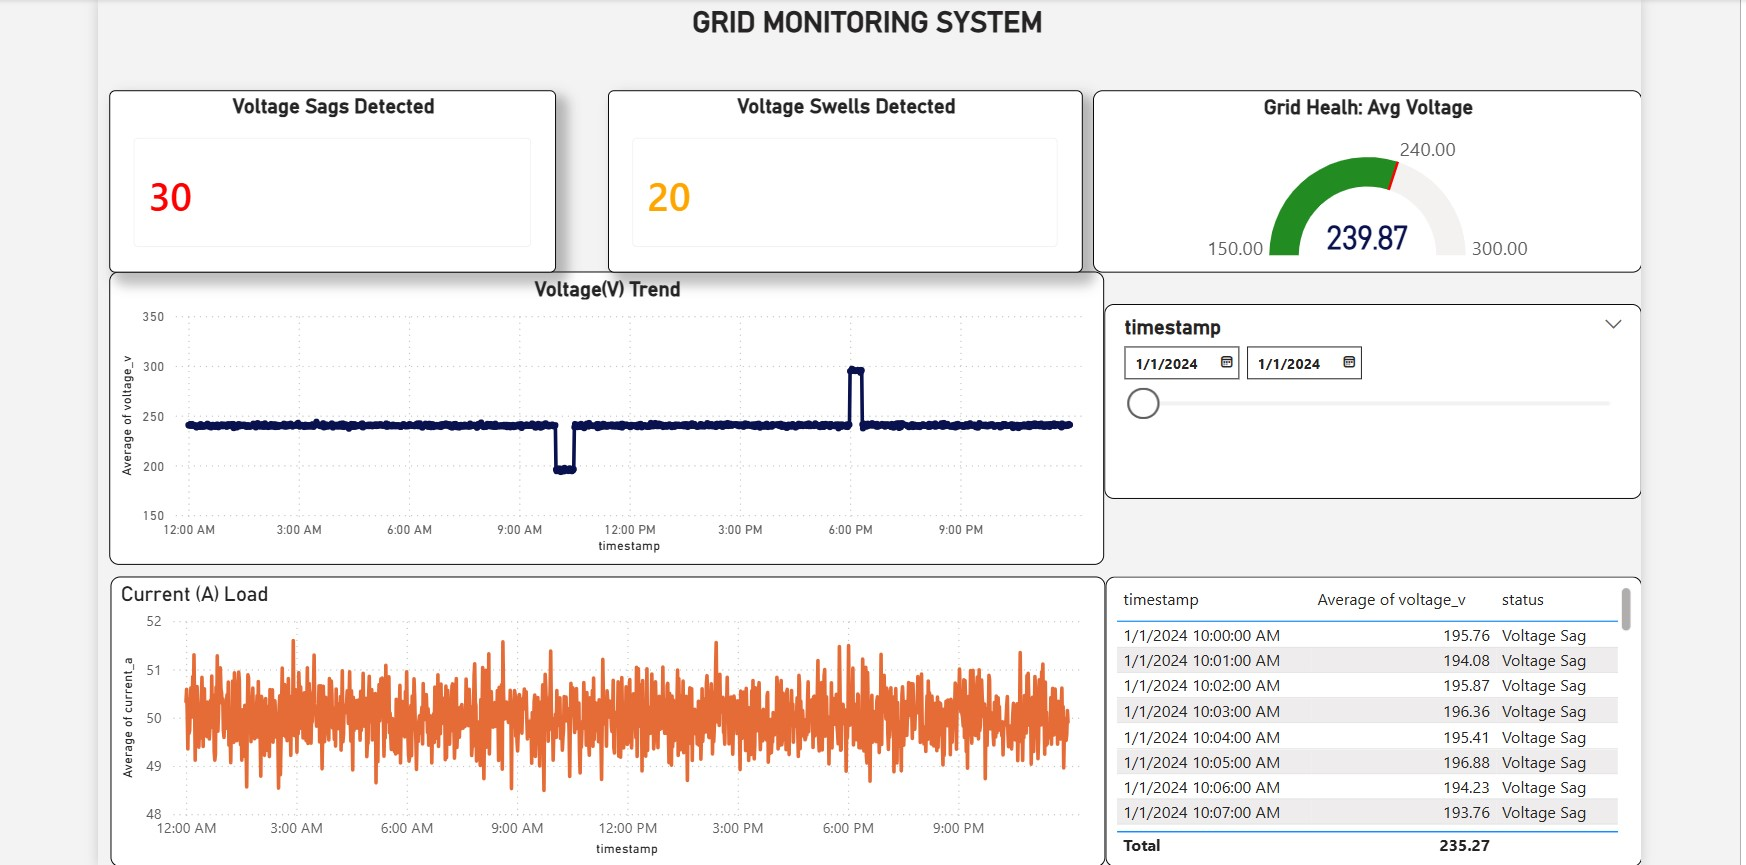

What the dashboard file says about the page in this screenshot:
{"tool":"powerbi","page":{"name":"Executive Summary","canvas":[1280,720],"ordinal":0},"visuals":[{"type":"lineChart","title":"Voltage(V) Trend","fields":{"Y":["Avg(public sensor_logs.voltage_v)"],"Category":["public sensor_logs.timestamp"]},"box":[9.6,226.4,824.7,242.9],"z":0},{"type":"cardVisual","title":"Voltage Sags Detected","fields":{"Data":["public sensor_logs.Total Sags"]},"box":[9.6,75.5,370.5,150.9],"z":1000},{"type":"cardVisual","title":"Voltage Swells Detected","fields":{"Data":["public sensor_logs.Total Swells"]},"box":[422.6,75.5,393.8,150.9],"z":2000},{"type":"gauge","title":"Grid Healh: Avg Voltage","fields":{"Y":["Avg(public sensor_logs.voltage_v)"]},"box":[824.7,75.5,455.6,150.9],"z":3000},{"type":"textbox","box":[194.9,0,886.5,61.7],"z":4000},{"type":"slicer","fields":{"Values":["public sensor_logs.timestamp"]},"box":[834.3,252.5,446,161.9],"z":5000},{"type":"lineChart","title":"Current (A) Load","fields":{"Category":["public sensor_logs.timestamp"],"Y":["Avg(public sensor_logs.current_a)"]},"box":[10,479,825,241],"z":6000},{"type":"tableEx","fields":{"Values":["public sensor_logs.timestamp","Avg(public sensor_logs.voltage_v)","public sensor_logs.status"]},"box":[835,479,445,241],"z":6001}]}

Visuals, with their boxes on the page's 1280x720 design canvas (x1, y1, x2, y2). These are canvas units, not pixel positions in the 1746x865 screenshot, which may show the page scaled, cropped or inside an application window:
"Voltage(V) Trend" lineChart: (10, 226, 834, 469)
"Voltage Sags Detected" cardVisual: (10, 76, 380, 226)
"Voltage Swells Detected" cardVisual: (423, 76, 816, 226)
"Grid Healh: Avg Voltage" gauge: (825, 76, 1280, 226)
textbox: (195, 0, 1081, 62)
slicer - public sensor_logs.timestamp: (834, 252, 1280, 414)
"Current (A) Load" lineChart: (10, 479, 835, 720)
tableEx - public sensor_logs.timestamp x Avg(public sensor_logs.voltage_v): (835, 479, 1280, 720)
